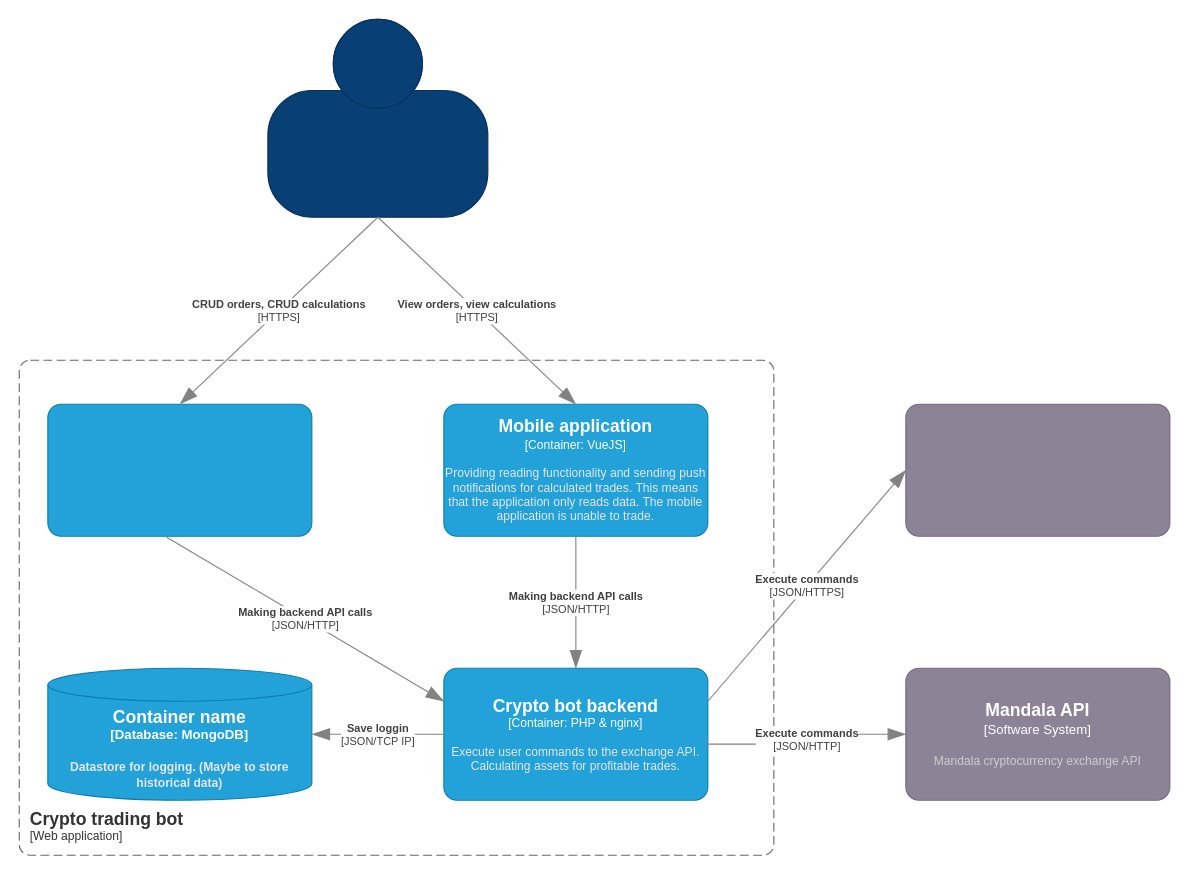
The diagram is 1189 pixels wide and 875 high, and some of its shapes have lost their labels. Here are the shapes that lost their labels. From the top down, the centre of each, then its label:
At point 377,117: "Trader [Actor] User who uses the crypto trading bot".
At point 179,469: "Single Page Webapp [Container: VueJS] Provides all trading functionality.".
At point 1037,469: "Binance API [Software System] Binance cryptocurrency exchange API".
